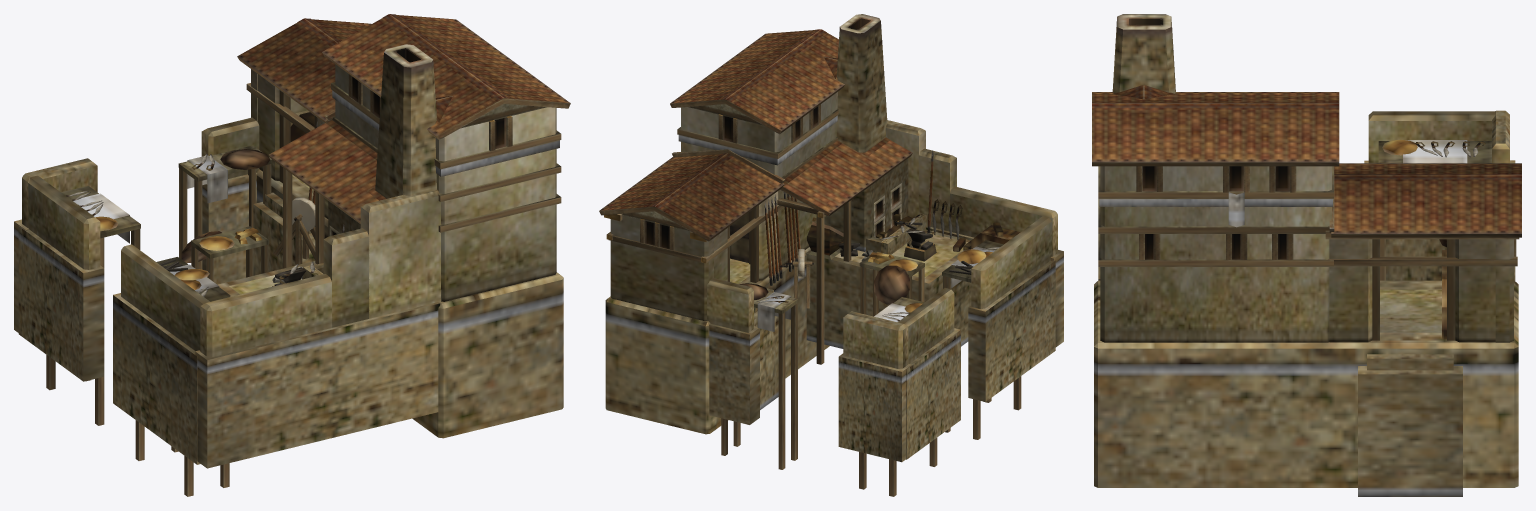
The model's file is s_spartans_blacksmith.glb.
3 renders of one model, left to right at view 1: azimuth 30°, elevation 25°; view 2: azimuth 150°, elevation 25°; view 3: azimuth 270°, elevation 25°, orthographic. The views are drawn at different scales.
Parts seen in each view (by area): view 1: s_spartans_blacksmith_part0; view 2: s_spartans_blacksmith_part0; view 3: s_spartans_blacksmith_part0.
Boxes of the visible parts, box(x1,y1,x2,y2) form: s_spartans_blacksmith_part0: box(14, 14, 570, 496); s_spartans_blacksmith_part0: box(599, 14, 1063, 496); s_spartans_blacksmith_part0: box(1092, 14, 1521, 496).
Size of the model in its own units: 4.2 by 4.32 by 3.9.
Materials: 1 (1 with a texture image).
